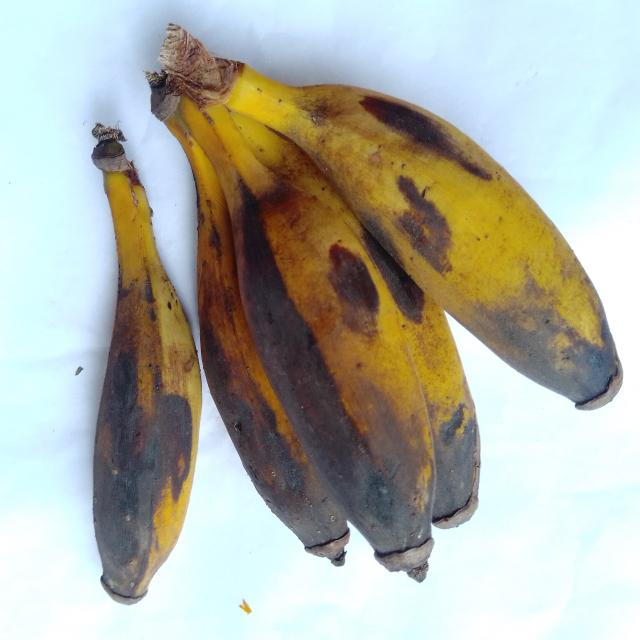banana: (159, 25, 622, 409), (179, 100, 435, 581), (232, 114, 479, 528), (150, 75, 349, 565), (92, 126, 201, 604)
